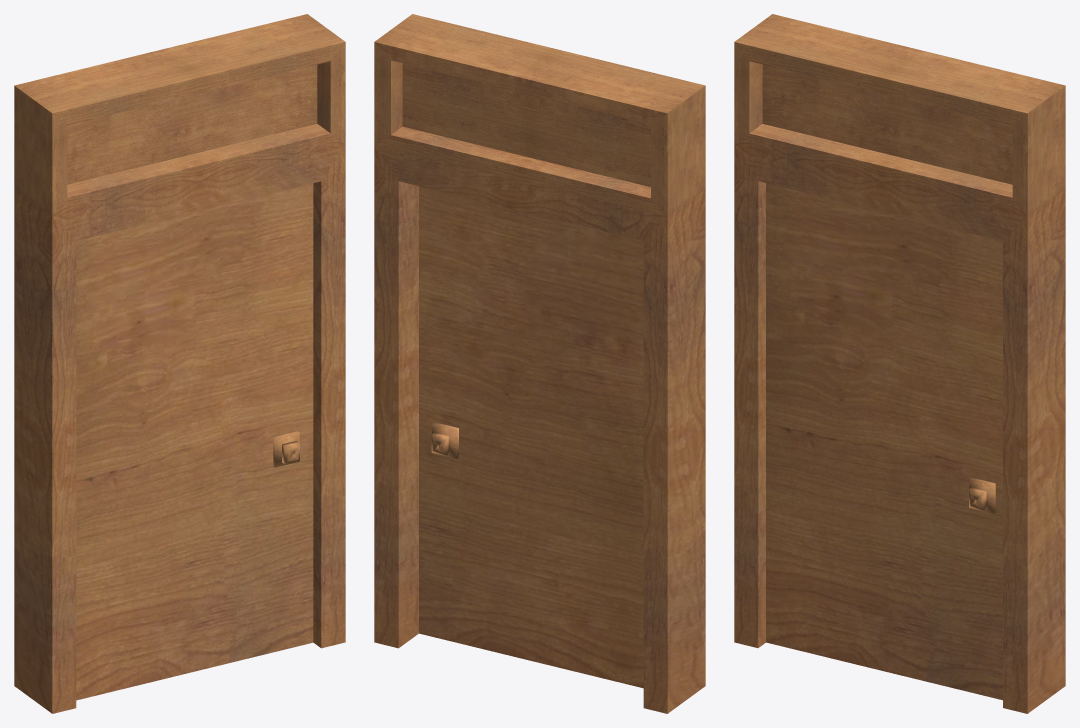
File: Buildings02_door.obj
3 renders of one model, left to right at view 1: azimuth 30°, elevation 25°; view 2: azimuth 150°, elevation 25°; view 3: azimuth 330°, elevation 25°, orthographic.
Visible parts, largest first — view 1: Plane.004; view 2: Plane.004; view 3: Plane.004.
Part boxes in pixels (x1,y1,x2,y2): Plane.004: (14,14,345,713); Plane.004: (374,14,705,713); Plane.004: (734,14,1065,713).
Bounding box in the file's own units: 1.48 × 2.9 × 0.3351.
